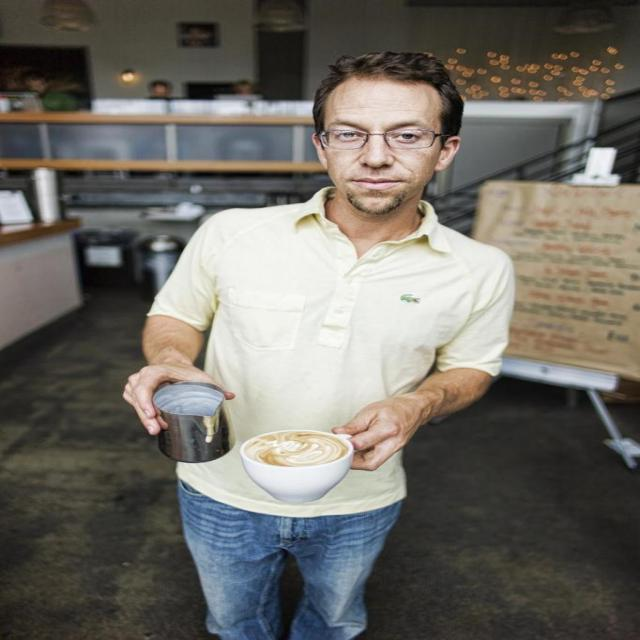Coffee: (222, 433, 364, 509)
